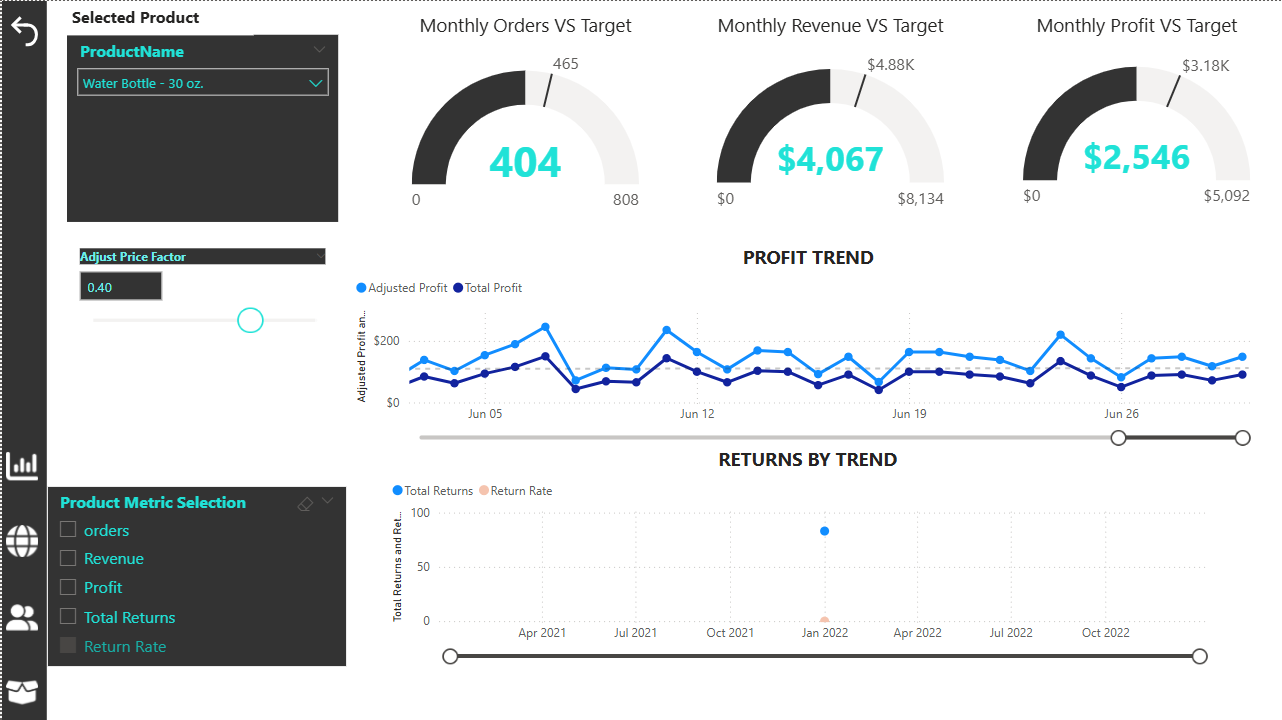

The page's visual inventory and layout, read from the dashboard file:
{"tool":"powerbi","page":{"name":"Product Detail","canvas":[1280,720],"ordinal":2},"visuals":[{"type":"shape","box":[0,0,45,720],"z":0},{"type":"gauge","title":"Monthly Orders VS Target","fields":{"Y":["Measure Table (2).Total orders"],"TargetValue":["Measure Table (2).Order Target"]},"box":[404.6,11.4,237.1,210],"z":1000},{"type":"actionButton","box":[0,445.1,45.2,40.4],"z":1000,"group":"g1"},{"type":"gauge","title":"Monthly Revenue VS Target","fields":{"Y":["Measure Table (2).Totoal Revenue"],"TargetValue":["Measure Table (2).Revenue Target"]},"box":[710.2,11.4,237.1,210],"z":2000},{"type":"actionButton","box":[0,520.5,45.2,40.4],"z":2000,"group":"g1"},{"type":"gauge","title":"Monthly Profit VS Target","fields":{"Y":["Measure Table (2).Total Profit"],"TargetValue":["Measure Table (2).Profit Target"]},"box":[1015.7,11.4,237.1,210],"z":3000},{"type":"actionButton","box":[0,595.9,45.2,40.4],"z":3000,"group":"g1"},{"type":"lineChart","title":"PROFIT TREND","fields":{"Category":["Calendar Lookup.Date hirerchy.Start of Year","Calendar Lookup.Date hirerchy.Date","Calendar Lookup.Date hirerchy.Start of Month","Calendar Lookup.Date hirerchy.Start of Week"],"Y":["Measure Table (2).Adjusted Profit","Measure Table (2).Total Profit"]},"box":[348.8,242.1,914.8,222.2],"z":4000},{"type":"actionButton","box":[0,671.1,45.2,40.4],"z":4000,"group":"g1"},{"type":"areaChart","title":"RETURNS BY TREND","fields":{"Y":["Measure Table (2).Total Returns","Measure Table (2).Return Rate"],"Category":["Calendar Lookup.Date hirerchy.Start of Year","Calendar Lookup.Date hirerchy.Date","Calendar Lookup.Date hirerchy.Start of Month","Calendar Lookup.Date hirerchy.Start of Week"]},"box":[385.2,445.1,841.3,221.3],"z":5000},{"type":"slicer","fields":{"Values":["Product Lookup.ProductName"]},"box":[64.8,34.2,271.5,187.1],"z":6000},{"type":"textbox","box":[64.5,0,186.6,34.3],"z":7000},{"type":"group","id":"g1","title":"Navigation buttons","box":[0,445.1,45.2,266.6],"z":8000},{"type":"actionButton","box":[2.1,9.8,53.8,40.4],"z":9000},{"type":"slicer","fields":{"Values":["Price Adjustments .Price Adjustments "]},"box":[64.8,242.1,271.5,101.5],"z":10000},{"type":"slicer","fields":{"Values":["Product Metric Selection .Product Metric Selection "]},"box":[45.2,485.5,299.6,181],"z":11000}]}

Visuals, with their boxes on the page's 1280x720 design canvas (x1, y1, x2, y2). These are canvas units, not pixel positions in the 1282x720 screenshot, which may show the page scaled, cropped or inside an application window:
shape: x1=0 y1=0 x2=45 y2=720
"Monthly Orders VS Target" gauge: x1=405 y1=11 x2=642 y2=221
actionButton: x1=0 y1=445 x2=45 y2=486
"Monthly Revenue VS Target" gauge: x1=710 y1=11 x2=947 y2=221
actionButton: x1=0 y1=520 x2=45 y2=561
"Monthly Profit VS Target" gauge: x1=1016 y1=11 x2=1253 y2=221
actionButton: x1=0 y1=596 x2=45 y2=636
"PROFIT TREND" lineChart: x1=349 y1=242 x2=1264 y2=464
actionButton: x1=0 y1=671 x2=45 y2=712
"RETURNS BY TREND" areaChart: x1=385 y1=445 x2=1226 y2=666
slicer - Product Lookup.ProductName: x1=65 y1=34 x2=336 y2=221
textbox: x1=64 y1=0 x2=251 y2=34
"Navigation buttons" group: x1=0 y1=445 x2=45 y2=712
actionButton: x1=2 y1=10 x2=56 y2=50
slicer - Price Adjustments .Price Adjustments : x1=65 y1=242 x2=336 y2=344
slicer - Product Metric Selection .Product Metric Selection : x1=45 y1=486 x2=345 y2=666
